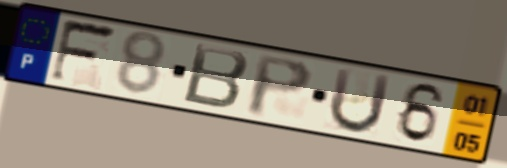6: (392, 81, 445, 146)
8: (111, 29, 173, 99)
B: (179, 41, 252, 112)
F: (46, 17, 120, 86)
P: (245, 52, 316, 120)
U: (326, 65, 395, 136)
